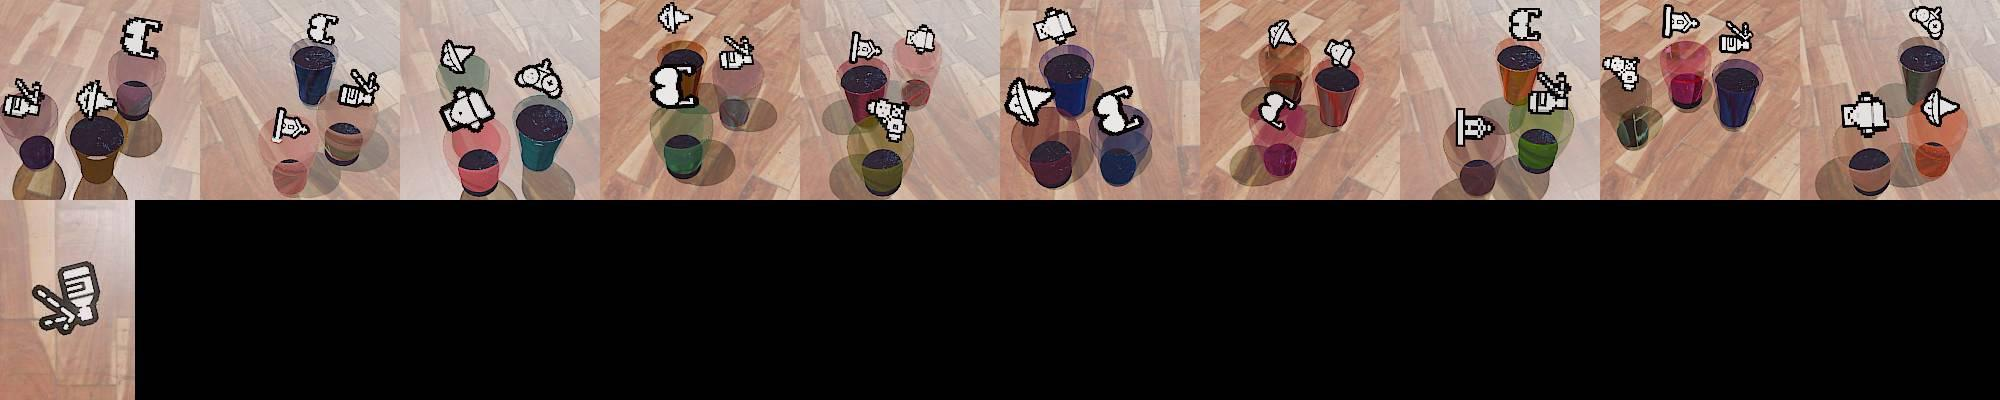icon: (32, 261, 103, 337), (438, 85, 496, 134), (1094, 85, 1143, 136), (1841, 91, 1892, 139), (649, 60, 700, 108), (1004, 77, 1052, 127), (866, 97, 912, 143), (515, 57, 565, 99), (1527, 69, 1573, 112), (1, 76, 45, 118), (120, 16, 162, 59), (75, 77, 118, 118), (1455, 103, 1496, 146), (337, 68, 379, 109), (1033, 7, 1076, 46), (1602, 54, 1642, 93), (1921, 88, 1960, 128), (717, 32, 756, 70), (272, 104, 311, 141), (1716, 18, 1755, 55), (1662, 3, 1701, 40), (1258, 90, 1294, 128), (439, 39, 476, 74), (1910, 5, 1945, 41), (848, 30, 884, 65), (1508, 6, 1543, 42), (657, 2, 693, 34), (307, 12, 339, 46), (1322, 37, 1356, 68), (904, 23, 935, 54), (1267, 20, 1296, 51)
